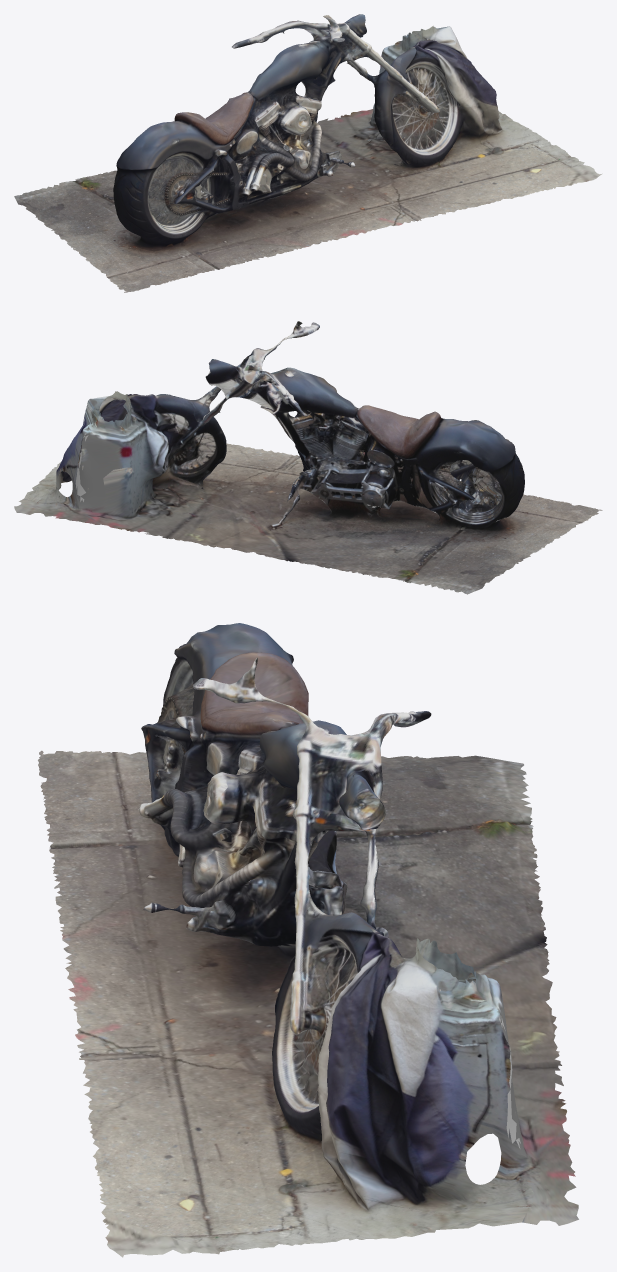
Rendered from bike.glb.
The picture shows the model from 3 angles, top to bottom: view 1: azimuth 30°, elevation 25°; view 2: azimuth 150°, elevation 25°; view 3: azimuth 270°, elevation 25°; orthographic projection. The views are drawn at different scales.
Parts seen in each view (by area): view 1: Object_2, Object_3, Object_4, Object_5; view 2: Object_2, Object_4, Object_3; view 3: Object_2, Object_3, Object_4, Object_5.
Part boxes in pixels (<box>): Object_2: <box>40,14,492,292</box>; Object_3: <box>96,15,602,280</box>; Object_4: <box>14,103,588,289</box>; Object_5: <box>198,15,494,192</box>; Object_2: <box>110,359,602,581</box>; Object_4: <box>14,421,598,594</box>; Object_3: <box>24,321,584,534</box>; Object_2: <box>38,625,556,1146</box>; Object_3: <box>63,661,540,1257</box>; Object_4: <box>41,623,578,1254</box>; Object_5: <box>142,657,501,1186</box>.
Bounding box in the file's own units: 4.94 × 1.82 × 2.4.
5 materials, 4 textured.
